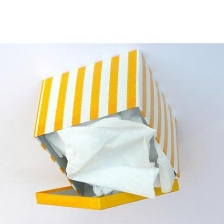book: (27, 44, 186, 216)
tissue: (52, 111, 164, 203)
